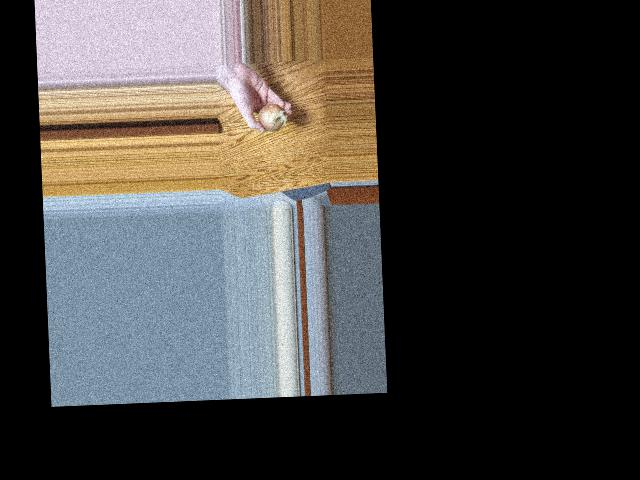onion: (257, 101, 284, 131)
